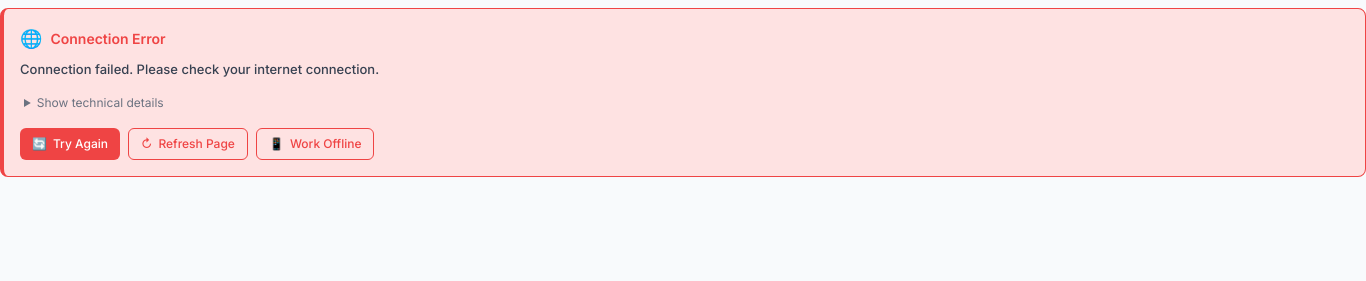
VisualFeedback Components › ErrorMessageDisplay › shows technical details when provided
Click the heading "Show technical details" at (100, 103), box [37, 95, 164, 110]
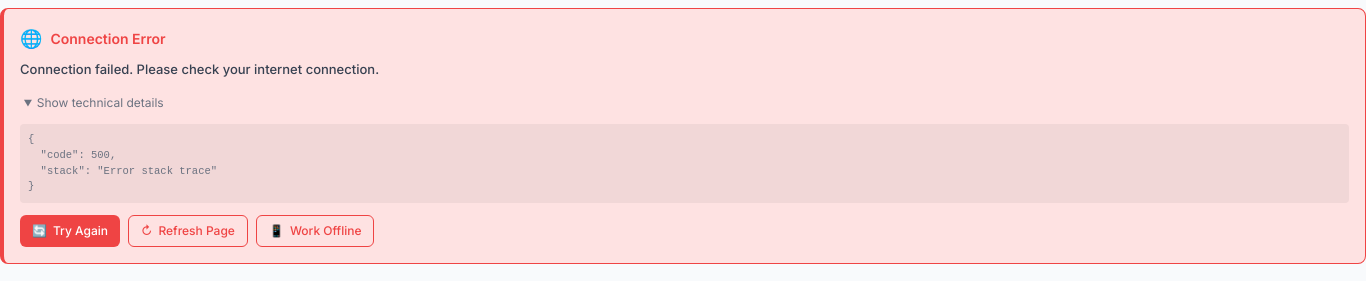
Now the text "{ \"code\": 500, \"stack\": \"Error stack trace\" }" is shown, box [28, 133, 217, 192]
